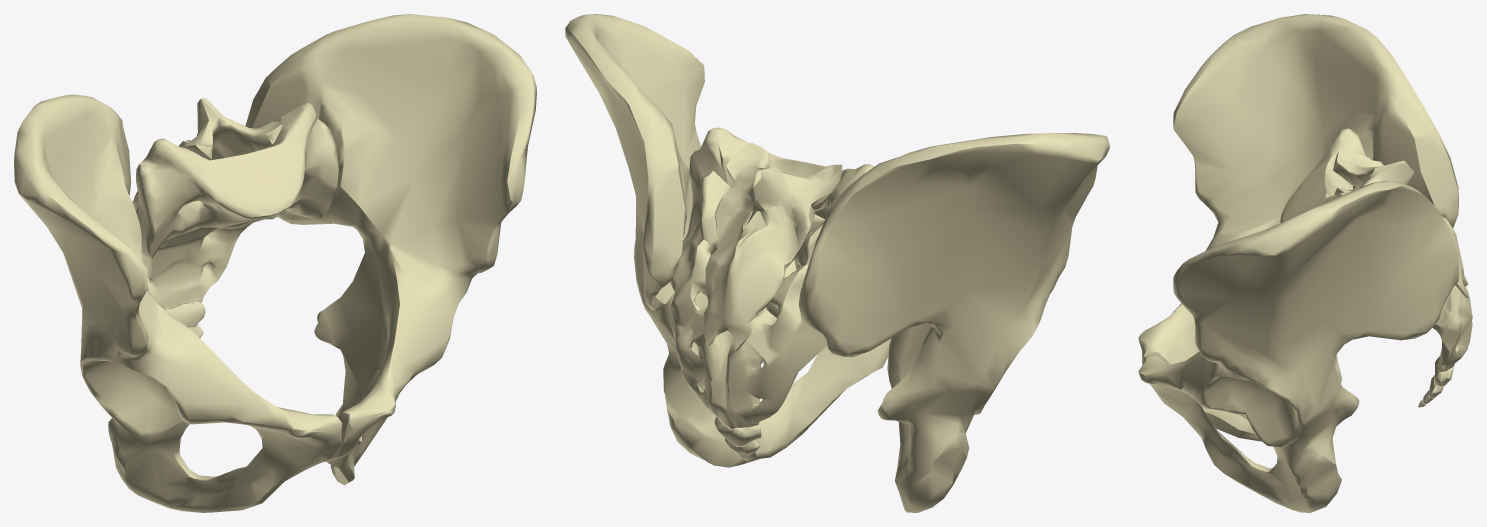
The model's file is pelvic_bone_collection_of_thunthu.glb.
The picture shows the model from 3 angles, left to right: view 1: azimuth 30°, elevation 25°; view 2: azimuth 150°, elevation 25°; view 3: azimuth 270°, elevation 25°; orthographic projection. The views are drawn at different scales.
Parts seen in each view (by area): view 1: Object_2; view 2: Object_2; view 3: Object_2.
Part boxes in pixels (x1,y1,x2,y2): Object_2: (14, 14, 536, 512); Object_2: (565, 14, 1109, 512); Object_2: (1138, 14, 1472, 512).
Size of the model in its own units: 64.14 by 48.95 by 40.59.
Materials: 1 (1 with a texture image).
